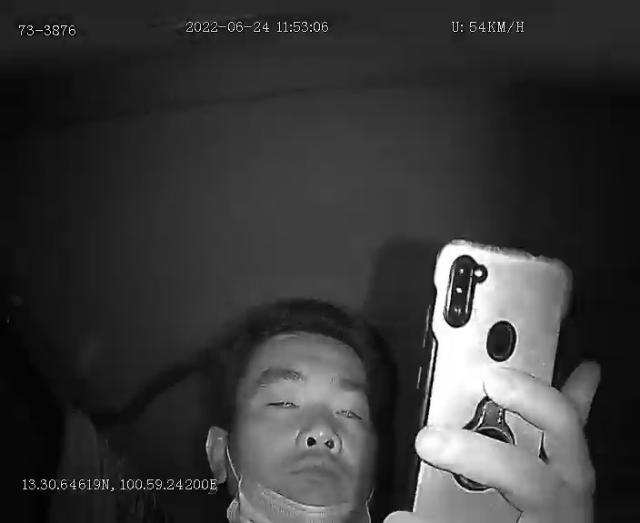PhoneUse: (406, 234, 574, 523)
SafeDriving: (258, 384, 306, 418), (327, 392, 369, 430)
